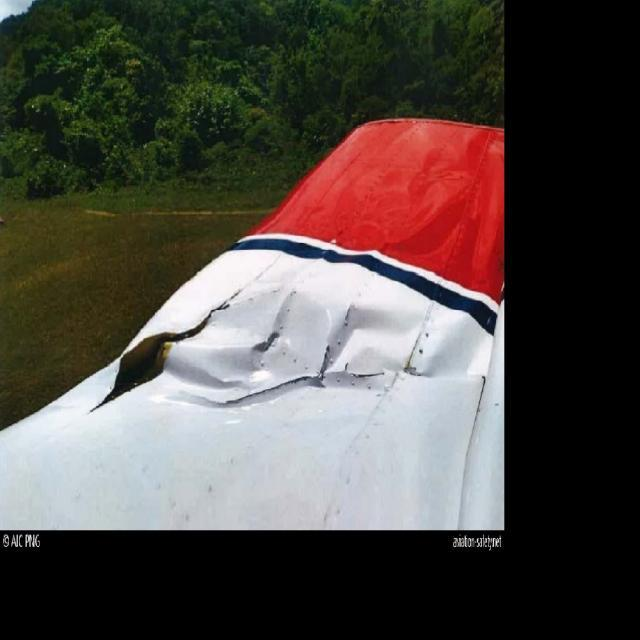crack: (232, 376, 339, 403), (306, 334, 334, 366), (346, 370, 379, 390), (343, 309, 355, 323)
